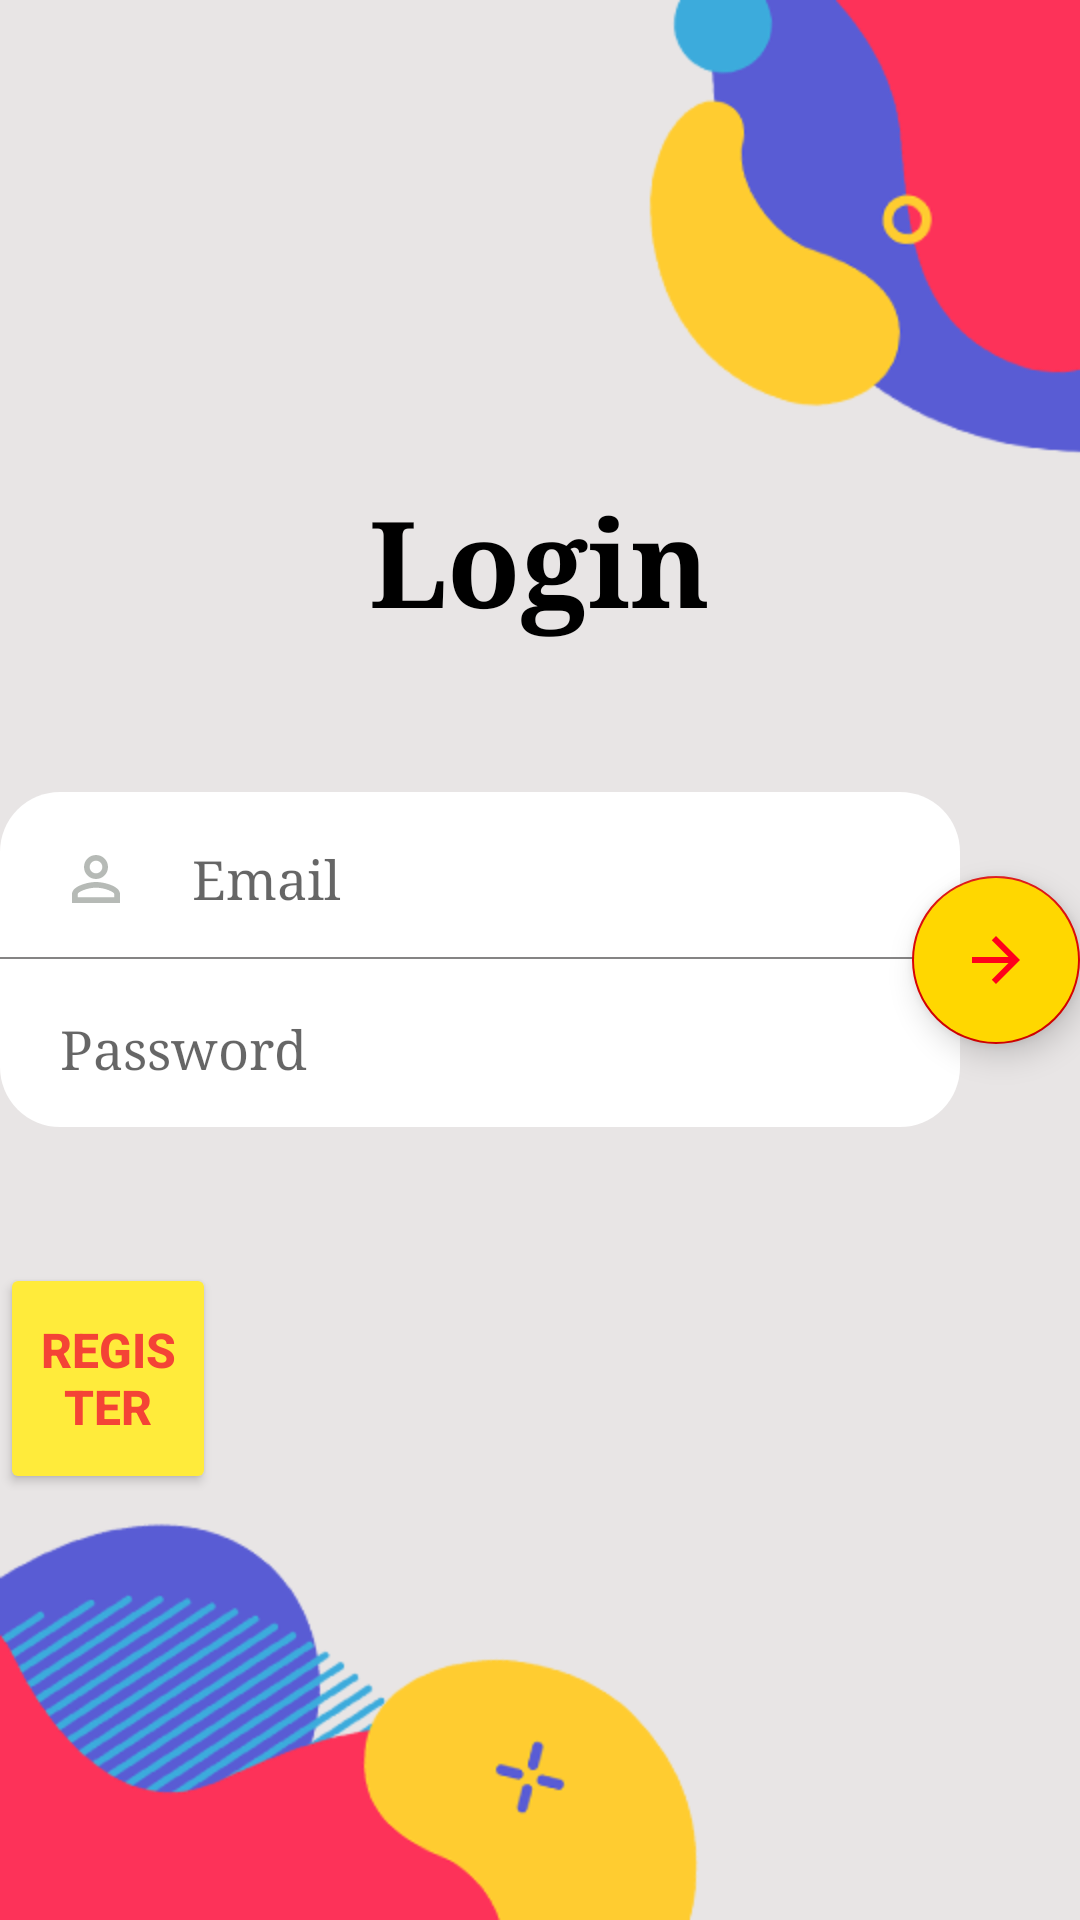

Point at icon controls on the screen. Image size 1080×1920, points as [x,y].
arrow forward: [996,960]
